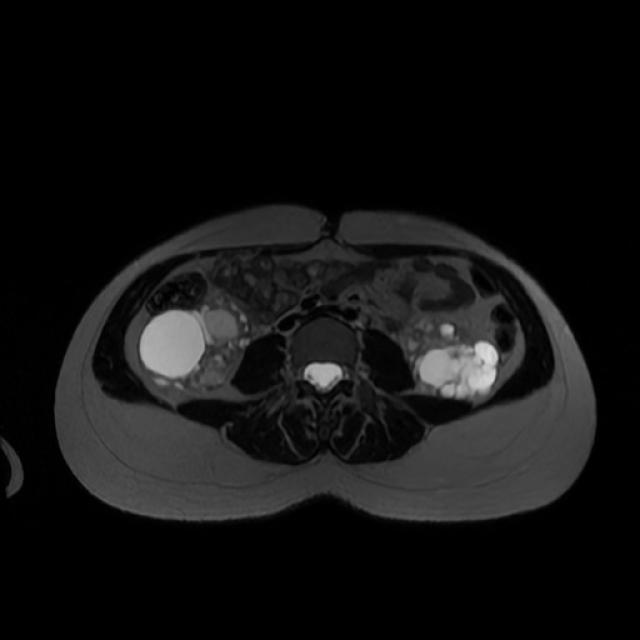sag: (135, 296, 253, 394)
sol: (410, 321, 501, 400)
